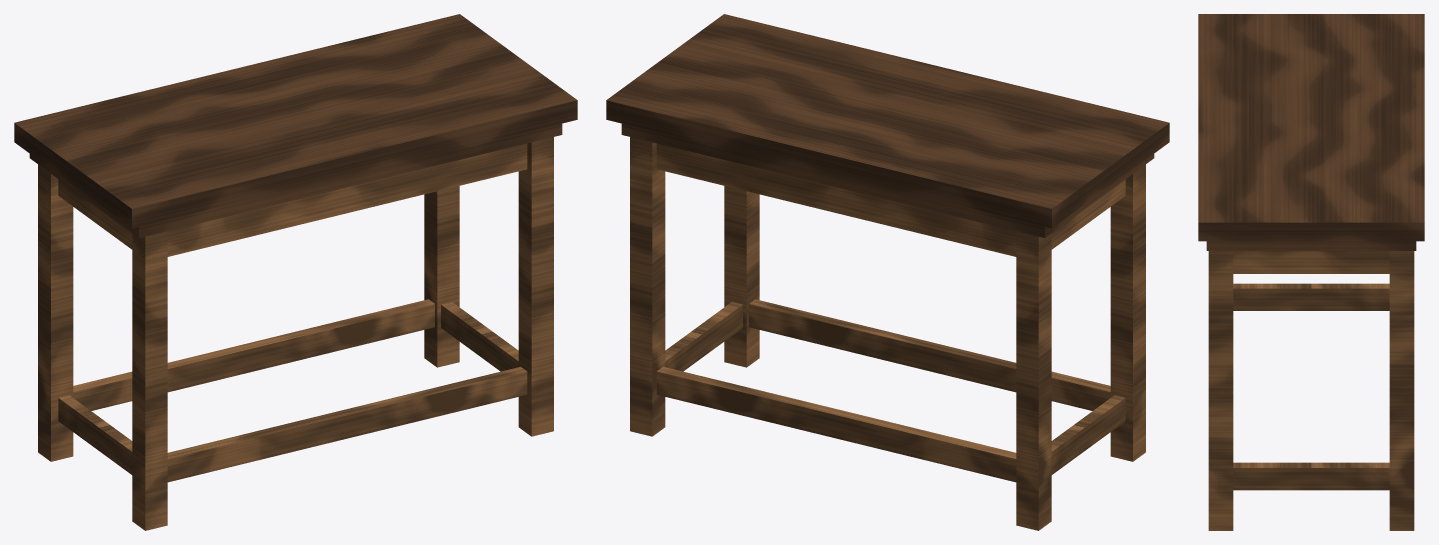
File: altar.fbx
The picture shows the model from 3 angles, left to right: view 1: azimuth 30°, elevation 25°; view 2: azimuth 150°, elevation 25°; view 3: azimuth 270°, elevation 25°; orthographic projection. The views are drawn at different scales.
Parts seen in each view (by area): view 1: altar; view 2: altar; view 3: altar.
Boxes of the visible parts, box(x1,y1,x2,y2) form: altar: box(14, 14, 577, 530); altar: box(606, 14, 1169, 530); altar: box(1198, 14, 1424, 530).
Bounding box in the file's own units: 120 × 85 × 55.
